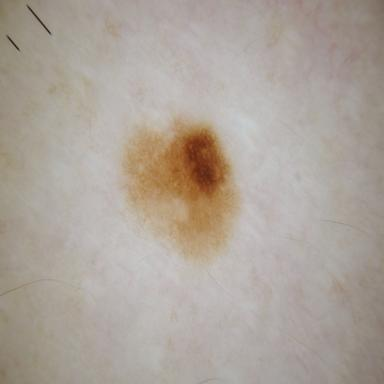nevus: (124, 120, 240, 263)
